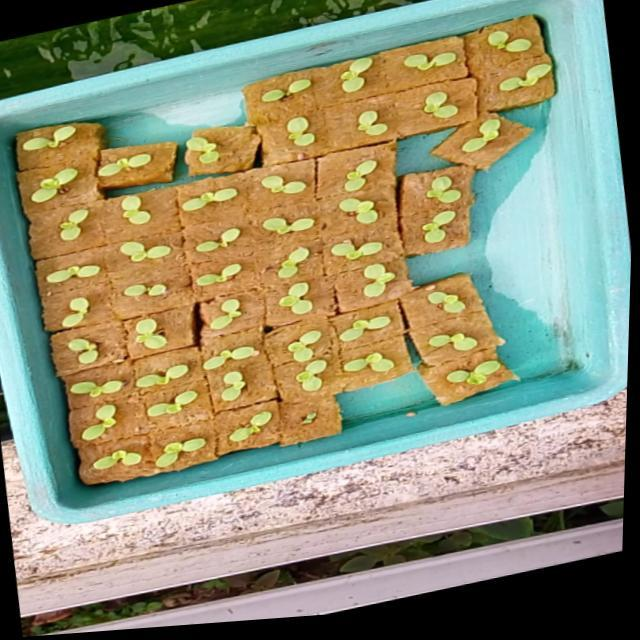Baby: (23, 209, 84, 253), (432, 126, 488, 172), (461, 33, 528, 70), (460, 65, 514, 104), (90, 291, 154, 320), (314, 242, 364, 276), (176, 309, 223, 344), (312, 326, 368, 355), (124, 455, 176, 486), (27, 350, 69, 387), (34, 393, 96, 418), (388, 56, 450, 81), (174, 359, 233, 385), (320, 207, 376, 234), (425, 372, 480, 399), (200, 427, 245, 458), (170, 236, 220, 263), (105, 378, 160, 402), (409, 177, 445, 213), (49, 420, 84, 457), (262, 342, 297, 376), (340, 274, 374, 309), (322, 66, 355, 102), (172, 273, 219, 297), (254, 293, 288, 326), (95, 251, 148, 272), (105, 331, 139, 363), (255, 257, 289, 289), (326, 167, 358, 201), (61, 466, 111, 487), (18, 274, 74, 292), (271, 372, 302, 404), (241, 226, 293, 245), (403, 101, 437, 129), (406, 344, 456, 363), (322, 369, 371, 388), (266, 125, 296, 155), (403, 228, 437, 254), (406, 302, 444, 325), (97, 204, 127, 233), (34, 309, 62, 340), (118, 412, 159, 432), (193, 385, 218, 417), (339, 119, 369, 144), (243, 184, 277, 203)
